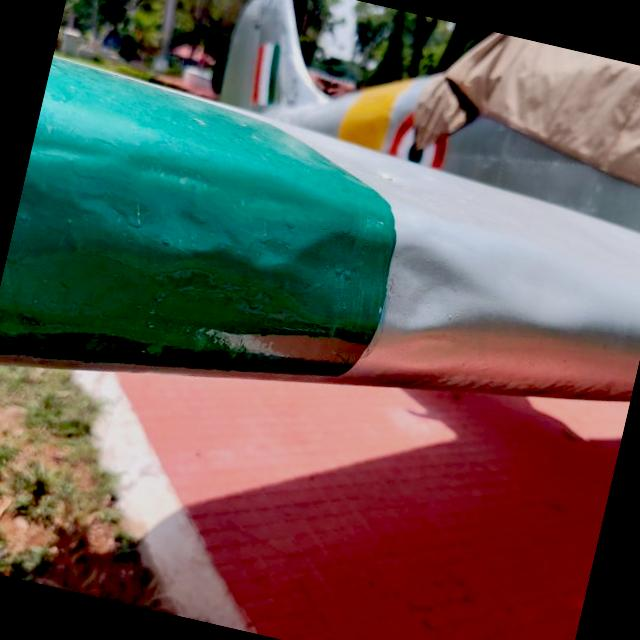dent: (5, 225, 367, 404), (362, 219, 514, 360), (257, 206, 389, 320)
